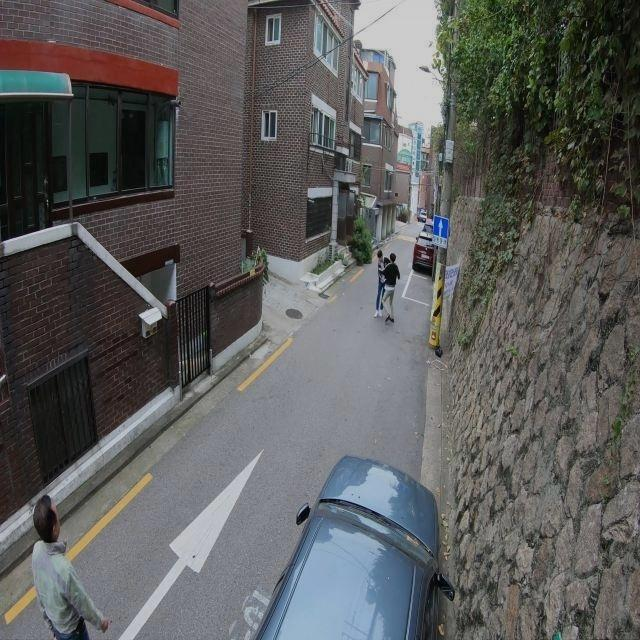fight: (374, 249, 401, 324)
non-fight: (27, 492, 113, 639)
